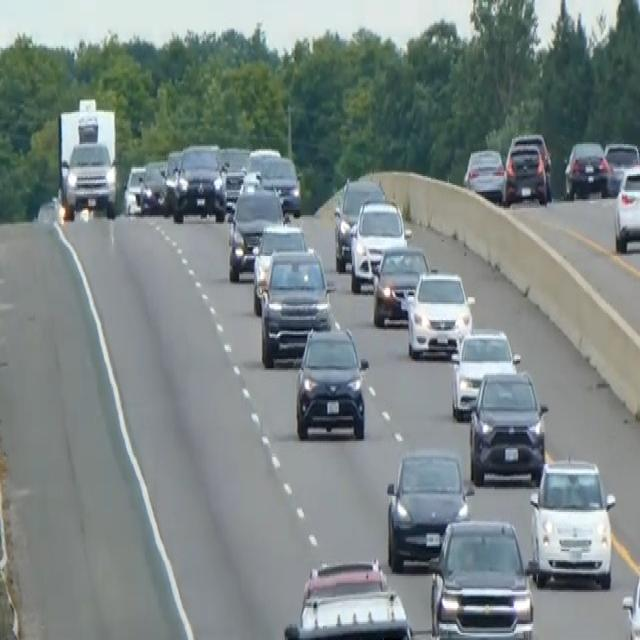car: (428, 516, 534, 638), (385, 446, 473, 571), (283, 556, 415, 638), (467, 366, 548, 486), (259, 246, 334, 366), (294, 323, 369, 441), (449, 326, 520, 420), (405, 267, 474, 359), (348, 195, 408, 294), (226, 183, 284, 281), (251, 220, 307, 313), (371, 244, 431, 327), (333, 176, 385, 270), (171, 142, 226, 222), (503, 135, 551, 206), (563, 137, 610, 199), (258, 153, 302, 217), (613, 160, 639, 252), (463, 146, 505, 202), (220, 144, 250, 208), (603, 139, 639, 192), (138, 160, 169, 215), (621, 555, 639, 638), (245, 144, 281, 181), (162, 148, 183, 210), (122, 164, 146, 215)
minivan: (526, 454, 617, 590)
truck: (56, 96, 119, 220)
